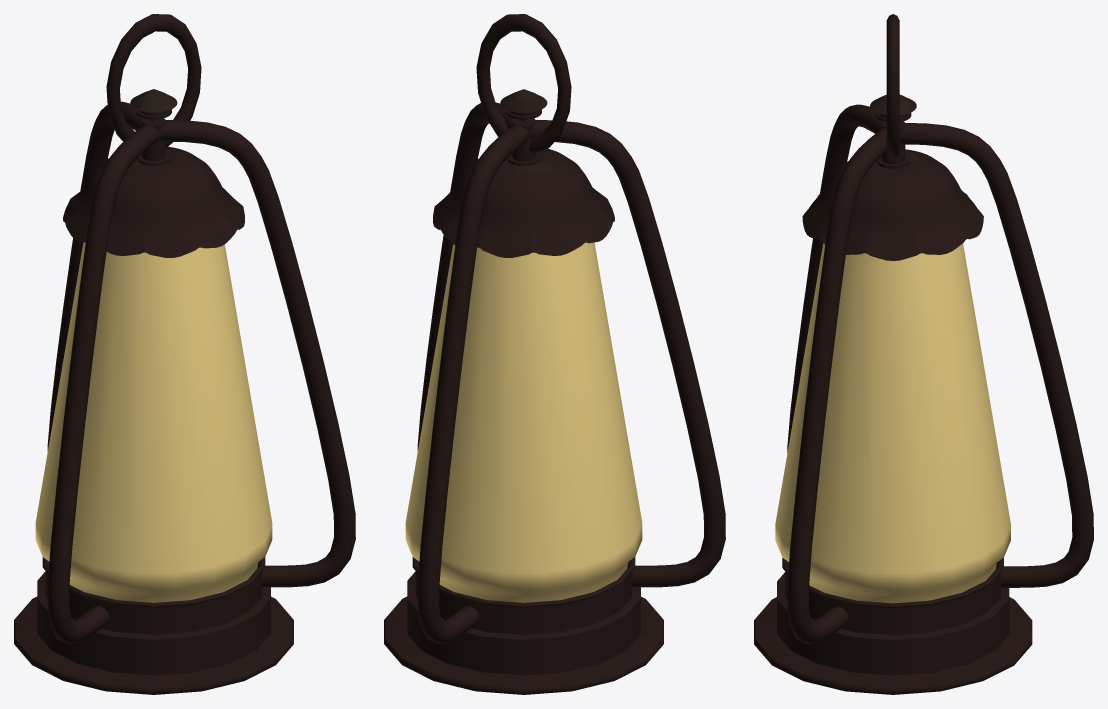
Rendered from Lantern_2.fbx.
3 renders of one model, left to right at view 1: azimuth 30°, elevation 25°; view 2: azimuth 150°, elevation 25°; view 3: azimuth 270°, elevation 25°, orthographic.
Visible parts, largest first — view 1: Vetro; view 2: Vetro; view 3: Vetro.
Boxes of the visible parts, left/top/right/bottom form: Vetro: left=14, top=14, right=355, bottom=694; Vetro: left=384, top=14, right=725, bottom=694; Vetro: left=754, top=14, right=1093, bottom=694.
Bounding box in the file's own units: 257 × 500 × 249.
